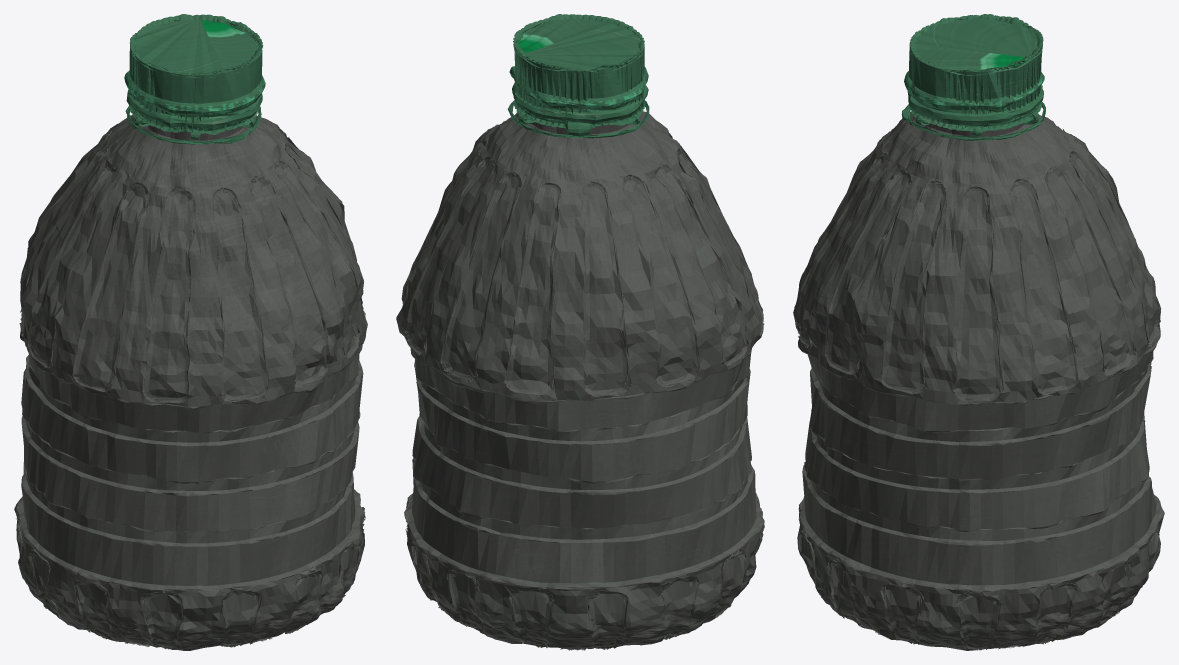
Rendered from crush_low_0.obj.
3 renders of one model, left to right at view 1: azimuth 30°, elevation 25°; view 2: azimuth 150°, elevation 25°; view 3: azimuth 270°, elevation 25°, orthographic.
Visible parts, largest first — view 1: model; view 2: model; view 3: model.
Boxes of the visible parts, x1,y1,x2,y2 form: model: (14, 14, 367, 650); model: (396, 14, 764, 650); model: (793, 14, 1164, 650).
Size of the model in its own units: 0.1192 by 0.2015 by 0.1222.
1 material, 1 textured.
